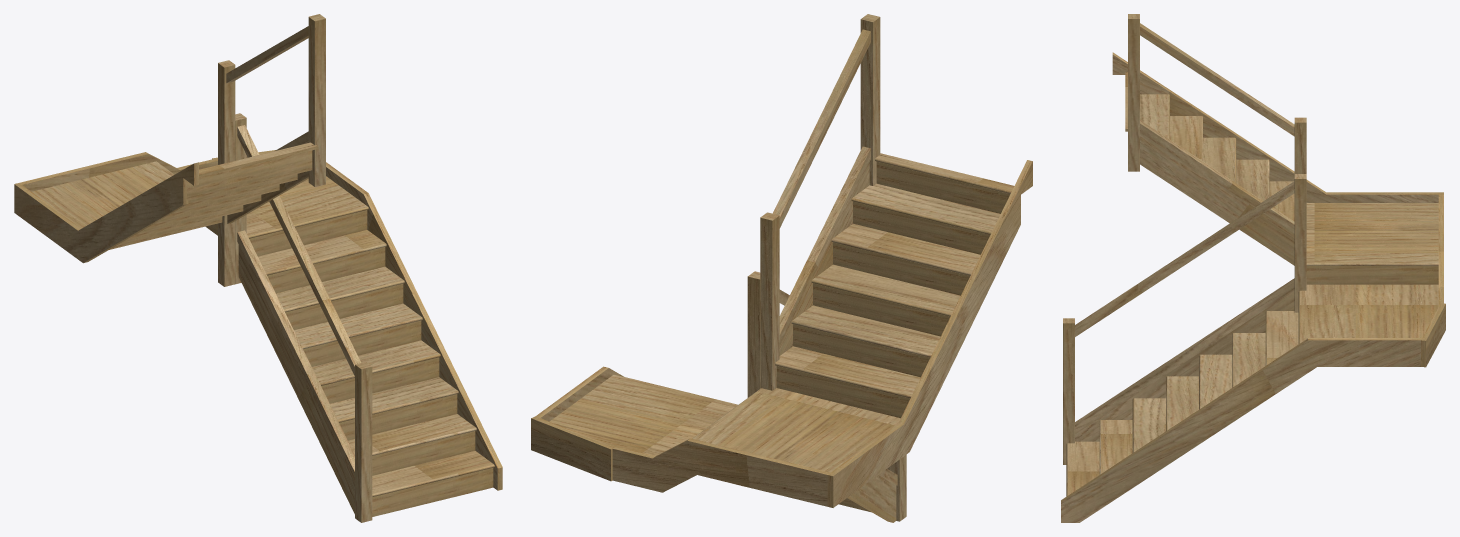
Rendered from Staircase_4.dae.
3 renders of one model, left to right at view 1: azimuth 30°, elevation 25°; view 2: azimuth 150°, elevation 25°; view 3: azimuth 270°, elevation 25°, orthographic. The views are drawn at different scales.
Visible parts, largest first — view 1: StairCon (×36); view 2: StairCon (×26); view 3: StairCon (×29).
Part boxes in pixels (x1=…): StairCon (×36): x1=14, y1=14, x2=502, y2=522; StairCon (×26): x1=531, y1=14, x2=1032, y2=522; StairCon (×29): x1=1061, y1=14, x2=1445, y2=522.
Size of the model in its own units: 2.26 by 2.9 by 3.66.
6 materials, 6 textured.
